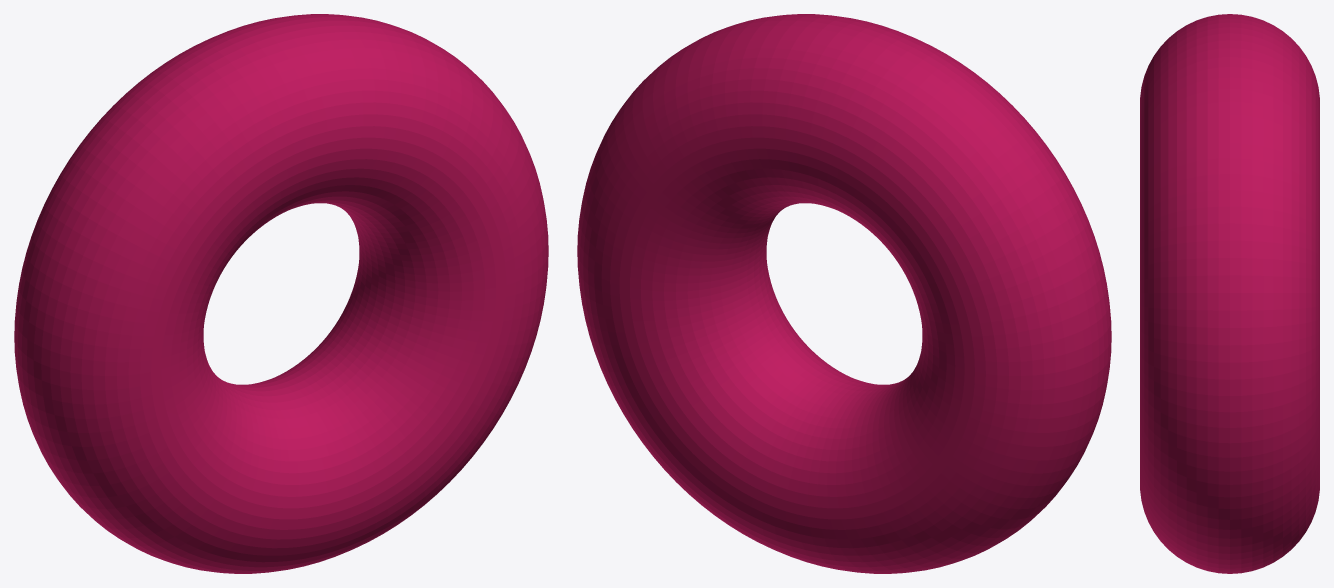
The picture shows the model from 3 angles, left to right: view 1: azimuth 30°, elevation 25°; view 2: azimuth 150°, elevation 25°; view 3: azimuth 270°, elevation 25°; orthographic projection. The views are drawn at different scales.
Visible parts, largest first — view 1: world; view 2: world; view 3: world.
Boxes of the visible parts, <box> form: world: <box>14,14,548,573</box>; world: <box>577,14,1111,573</box>; world: <box>1140,14,1319,573</box>.
Bounding box in the file's own units: 23.6 × 23.6 × 7.59.
